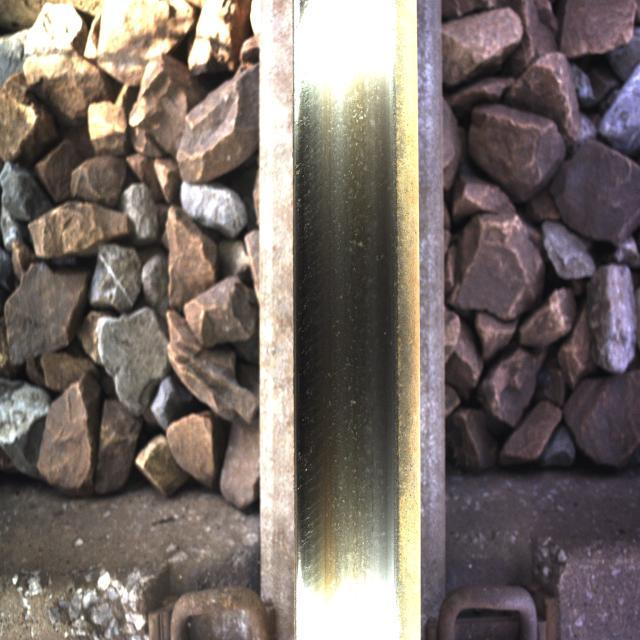break: (296, 46, 382, 605)
